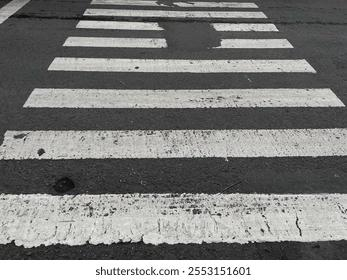faded_road_lines: (0, 192, 347, 244), (0, 128, 347, 158), (23, 86, 345, 110), (47, 58, 318, 74), (60, 37, 293, 48), (56, 22, 283, 33), (79, 7, 273, 19), (83, 0, 268, 10)
